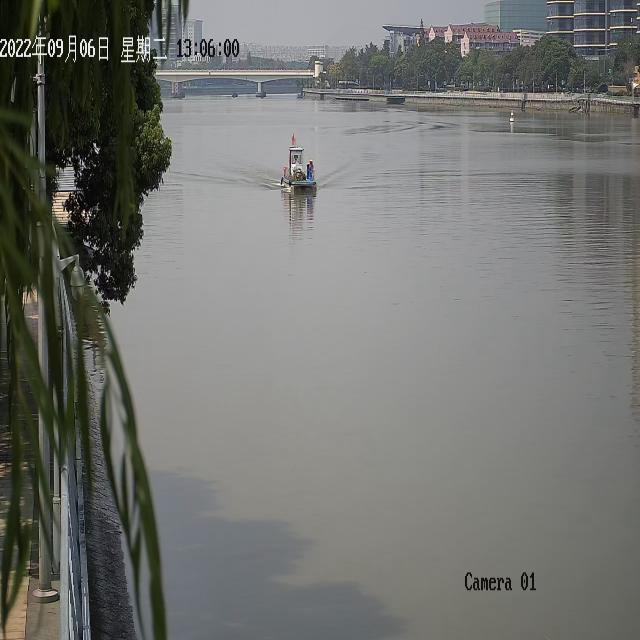ship: (280, 131, 316, 196), (232, 89, 238, 96)
